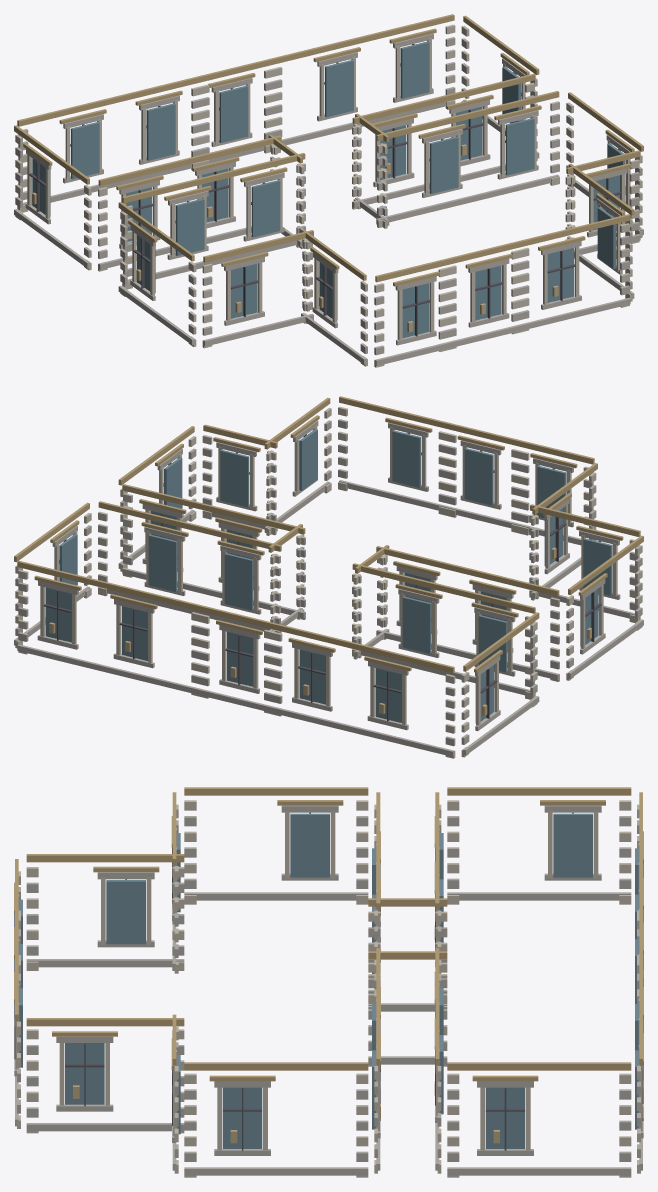
Rendered from exterior_facade_floor_02.glb.
3 renders of one model, top to bottom at view 1: azimuth 30°, elevation 25°; view 2: azimuth 150°, elevation 25°; view 3: azimuth 270°, elevation 25°, orthographic. The views are drawn at different scales.
Visible parts, largest first — view 1: EXT-f2-e17-window0-glazing, EXT-f2-e19-window0-glazing, EXT-f2-e13-window1-glazing, EXT-f2-e3-window0-glazing, EXT-f2-e13-window0-glazing, EXT-f2-e18-window0-glazing, EXT-f2-e17-window1-glazing, EXT-f2-e3-window1-glazing, EXT-f2-e19-window1-glazing, EXT-f2-e19-continuous-cornice-2.888, EXT-f2-e17-continuous-cornice-2.888, EXT-f2-e3-continuous-cornice-2.888 (+39 smaller); view 2: EXT-f2-e15-window0-glazing, EXT-f2-e8-window0-glazing, EXT-f2-e11-window0-glazing, EXT-f2-e15-window1-glazing, EXT-f2-e1-window1-glazing, EXT-f2-e9-window0-glazing, EXT-f2-e19-continuous-cornice-0.2, EXT-f2-e19-continuous-cornice-2.888, EXT-f2-e17-continuous-cornice-0.2, EXT-f2-e17-continuous-cornice-2.888, EXT-f2-e15-continuous-cornice-2.888, EXT-f2-e1-continuous-cornice-2.888 (+35 smaller); view 3: EXT-f2-e4-window0-glazing, EXT-f2-e6-window0-glazing, EXT-f2-e20-window0-glazing, EXT-f2-e12-window0-glazing, EXT-f2-e16-window0-glazing, EXT-f2-e10-window0-glazing, EXT-f2-e4-continuous-cornice-2.888, EXT-f2-e12-continuous-cornice-0.2, EXT-f2-e12-continuous-cornice-2.888, EXT-f2-e16-continuous-cornice-0.2, EXT-f2-e16-continuous-cornice-2.888, EXT-f2-e20-continuous-cornice-2.888 (+13 smaller).
Part boxes in pixels (x1,y1,x2,y2): EXT-f2-e17-window0-glazing: (400, 41, 429, 98); EXT-f2-e19-window0-glazing: (146, 103, 175, 160); EXT-f2-e13-window1-glazing: (429, 136, 458, 193); EXT-f2-e3-window0-glazing: (251, 180, 280, 237); EXT-f2-e13-window0-glazing: (505, 118, 534, 175); EXT-f2-e18-window0-glazing: (219, 85, 248, 142); EXT-f2-e17-window1-glazing: (325, 60, 353, 117); EXT-f2-e3-window1-glazing: (175, 198, 204, 255); EXT-f2-e19-window1-glazing: (71, 122, 99, 179); EXT-f2-e19-continuous-cornice-2.888: (17, 76, 200, 126); EXT-f2-e17-continuous-cornice-2.888: (272, 14, 454, 64); EXT-f2-e3-continuous-cornice-2.888: (122, 153, 305, 203); EXT-f2-e15-window0-glazing: (224, 553, 253, 610); EXT-f2-e8-window0-glazing: (464, 448, 493, 505); EXT-f2-e11-window0-glazing: (220, 450, 249, 507); EXT-f2-e15-window1-glazing: (148, 534, 177, 591); EXT-f2-e1-window1-glazing: (402, 596, 431, 653); EXT-f2-e9-window0-glazing: (392, 430, 420, 487); EXT-f2-e19-continuous-cornice-0.2: (271, 706, 454, 756); EXT-f2-e19-continuous-cornice-2.888: (271, 622, 454, 673); EXT-f2-e17-continuous-cornice-0.2: (17, 644, 199, 694); EXT-f2-e17-continuous-cornice-2.888: (17, 560, 199, 611); EXT-f2-e15-continuous-cornice-2.888: (98, 501, 281, 551); EXT-f2-e1-continuous-cornice-2.888: (352, 563, 535, 613); EXT-f2-e4-window0-glazing: (290, 813, 329, 877); EXT-f2-e6-window0-glazing: (106, 880, 145, 944); EXT-f2-e20-window0-glazing: (553, 813, 592, 877); EXT-f2-e12-window0-glazing: (222, 1087, 262, 1148); EXT-f2-e16-window0-glazing: (485, 1087, 525, 1148); EXT-f2-e10-window0-glazing: (65, 1043, 104, 1104); EXT-f2-e4-continuous-cornice-2.888: (184, 787, 368, 795); EXT-f2-e12-continuous-cornice-0.2: (184, 1167, 368, 1175); EXT-f2-e12-continuous-cornice-2.888: (184, 1062, 368, 1070); EXT-f2-e16-continuous-cornice-0.2: (447, 1167, 631, 1175); EXT-f2-e16-continuous-cornice-2.888: (447, 1062, 631, 1070); EXT-f2-e20-continuous-cornice-2.888: (447, 787, 631, 795).
Size of the model in its own units: 15.22 by 2.93 by 14.61.
